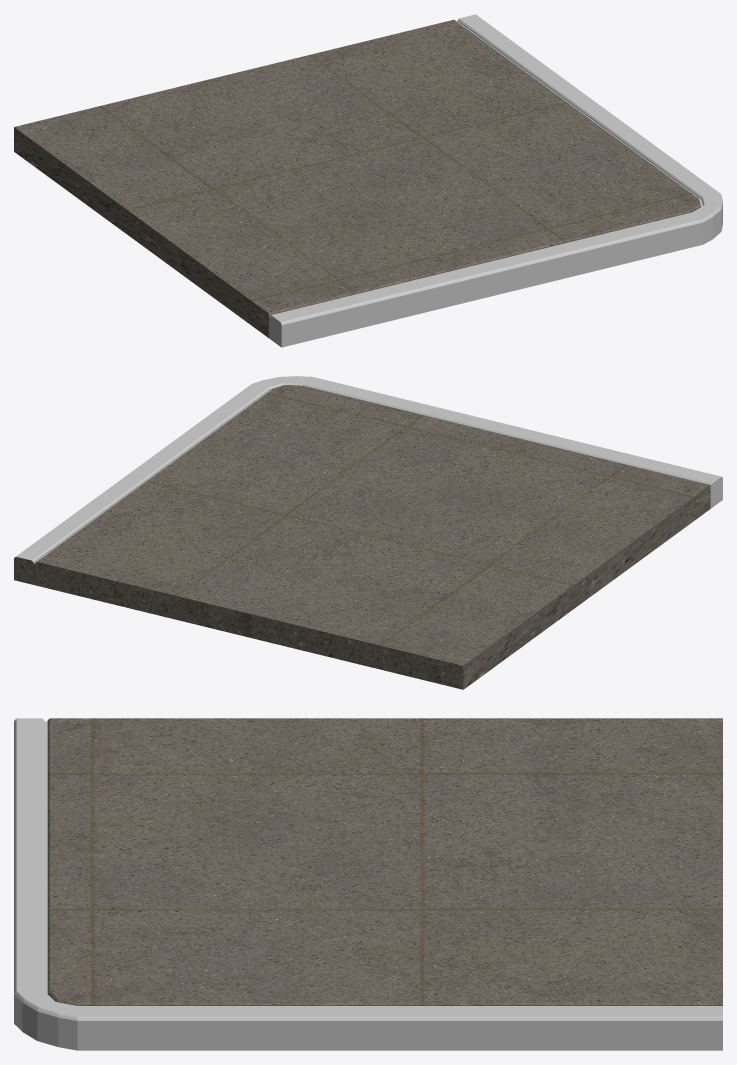
Rendered from Pavement_Curved_02.fbx.
The picture shows the model from 3 angles, top to bottom: view 1: azimuth 30°, elevation 25°; view 2: azimuth 150°, elevation 25°; view 3: azimuth 270°, elevation 25°; orthographic projection. The views are drawn at different scales.
Parts seen in each view (by area): view 1: Street_Curved.002; view 2: Street_Curved.002; view 3: Street_Curved.002.
Part boxes in pixels (x1,y1,x2,y2): Street_Curved.002: (14, 14, 722, 347); Street_Curved.002: (14, 376, 722, 689); Street_Curved.002: (14, 718, 722, 1050).
Size of the model in its own units: 4.2 by 4.2 by 0.214.
